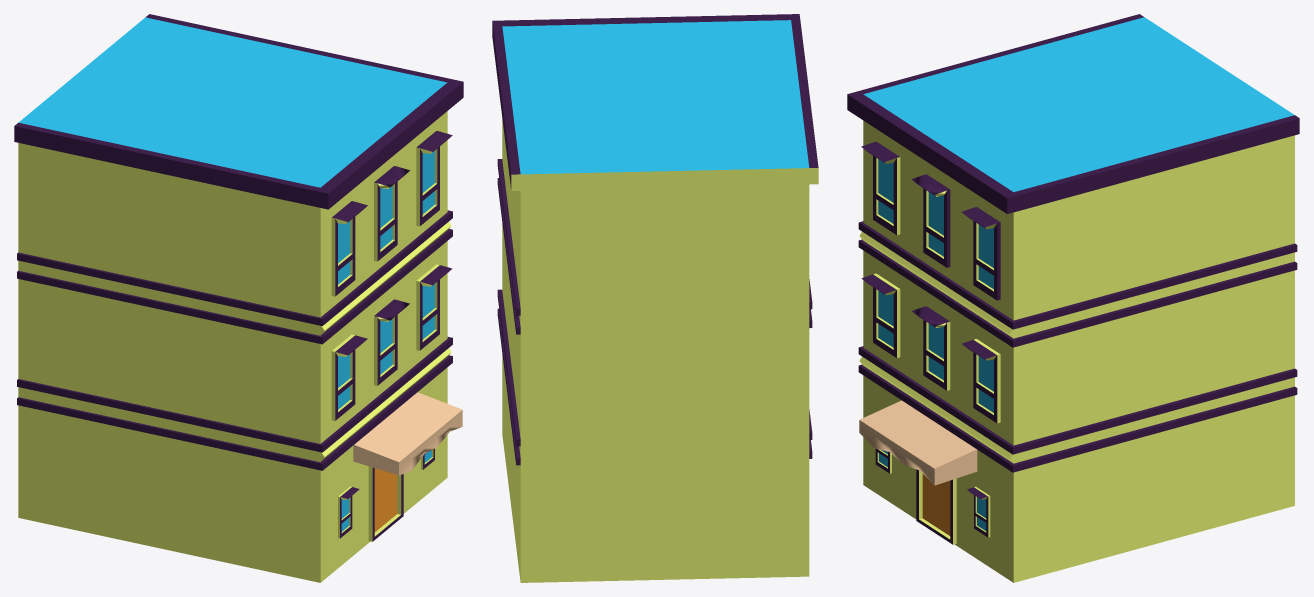
File: ToyObject_113.fbx
3 renders of one model, left to right at view 1: azimuth 30°, elevation 25°; view 2: azimuth 150°, elevation 25°; view 3: azimuth 270°, elevation 25°, orthographic. The views are drawn at different scales.
Visible parts, largest first — view 1: object-1.047; view 2: object-1.047; view 3: object-1.047.
Part boxes in pixels (x1,y1,x2,y2): object-1.047: (14,14,463,582); object-1.047: (492,14,818,582); object-1.047: (847,14,1299,582).
Size of the model in its own units: 0.1324 by 0.1307 by 0.1372.
